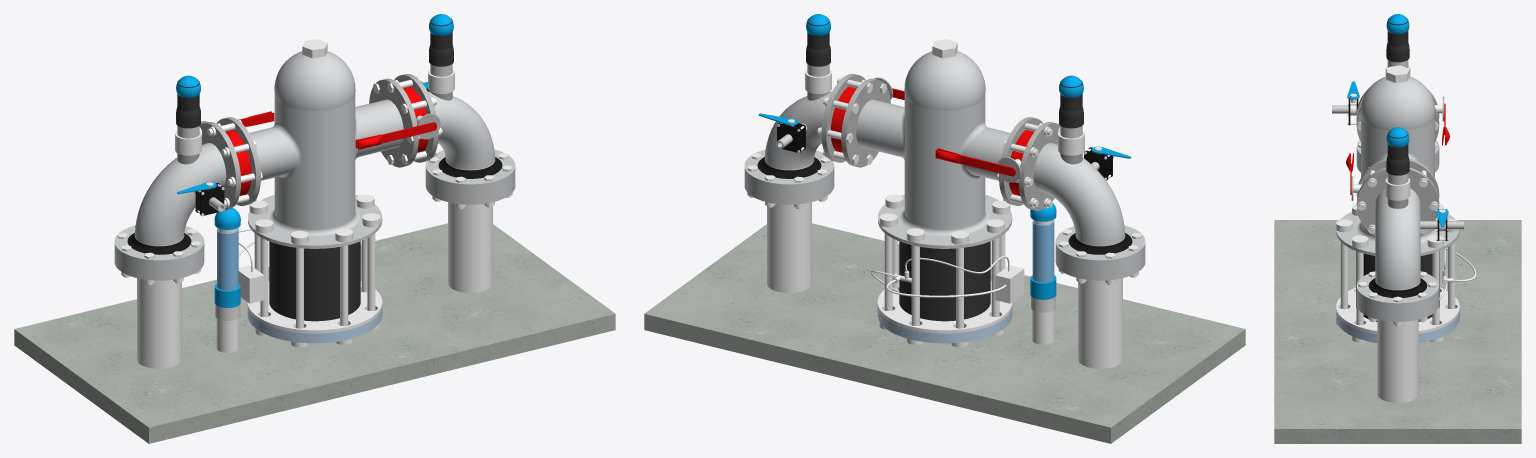
File: arbormated_model_9.glb
3 renders of one model, left to right at view 1: azimuth 30°, elevation 25°; view 2: azimuth 150°, elevation 25°; view 3: azimuth 270°, elevation 25°, orthographic. The views are drawn at different scales.
Parts seen in each view (by area): view 1: A-5 (×28); view 2: A-5 (×27); view 3: A-5 (×21).
Boxes of the visible parts, bbox=[...] form: A-5 (×28): bbox=[14, 18, 615, 443]; A-5 (×27): bbox=[644, 18, 1245, 443]; A-5 (×21): bbox=[1274, 14, 1521, 443].
Size of the model in its own units: 0.3 by 0.18 by 0.15.
35 materials, 1 textured.
